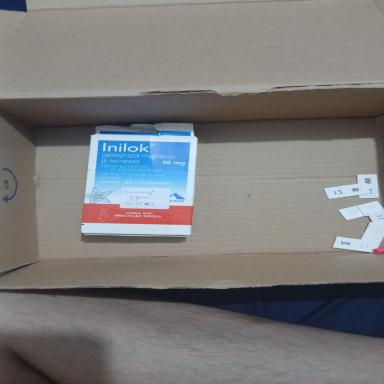Medicamento: (82, 123, 198, 236)
